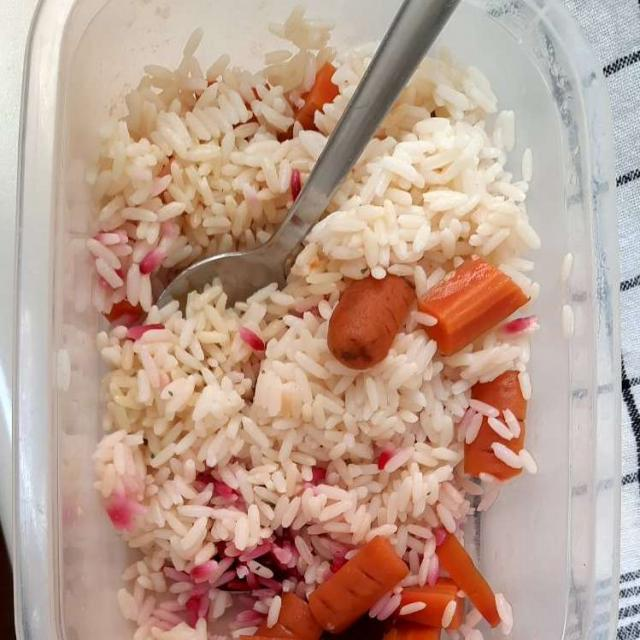beetroot-steamed-without-addition-of-salt: (226, 547, 385, 637)
carrot-steamed-without-addition-of-salt: (258, 245, 535, 638)
rice: (92, 50, 529, 631)
